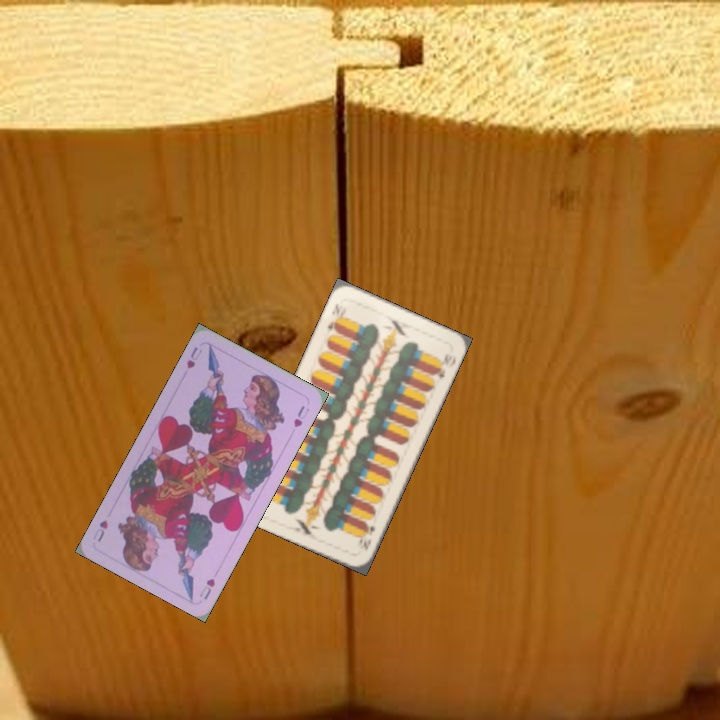E10: (323, 299, 345, 335), (355, 520, 378, 552)
HU: (183, 342, 205, 372), (195, 574, 218, 602)
